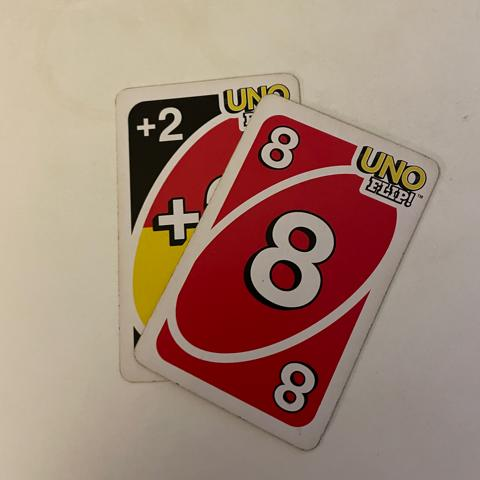lcolor2-50: (127, 98, 189, 144)
lred-8: (255, 120, 304, 180)
